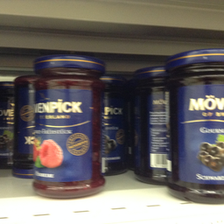jam: (32, 55, 105, 198), (167, 49, 224, 204)
